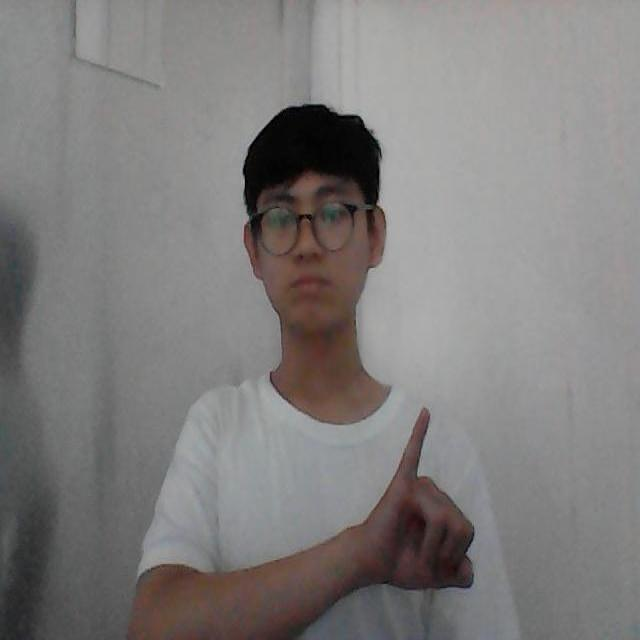I: (348, 399, 483, 592)
